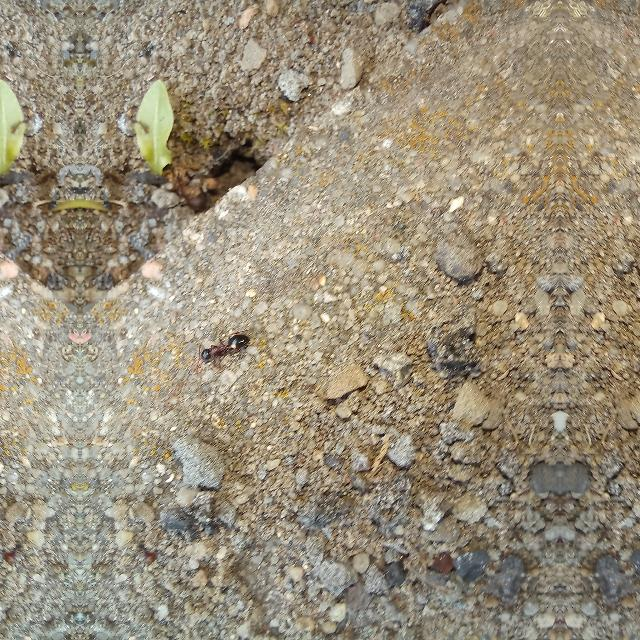Dolichoderus: (191, 318, 255, 374)
